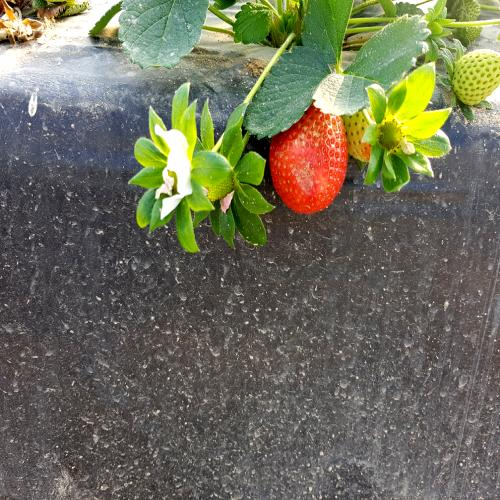ripe: (270, 66, 352, 221)
unripe: (450, 42, 500, 114)
